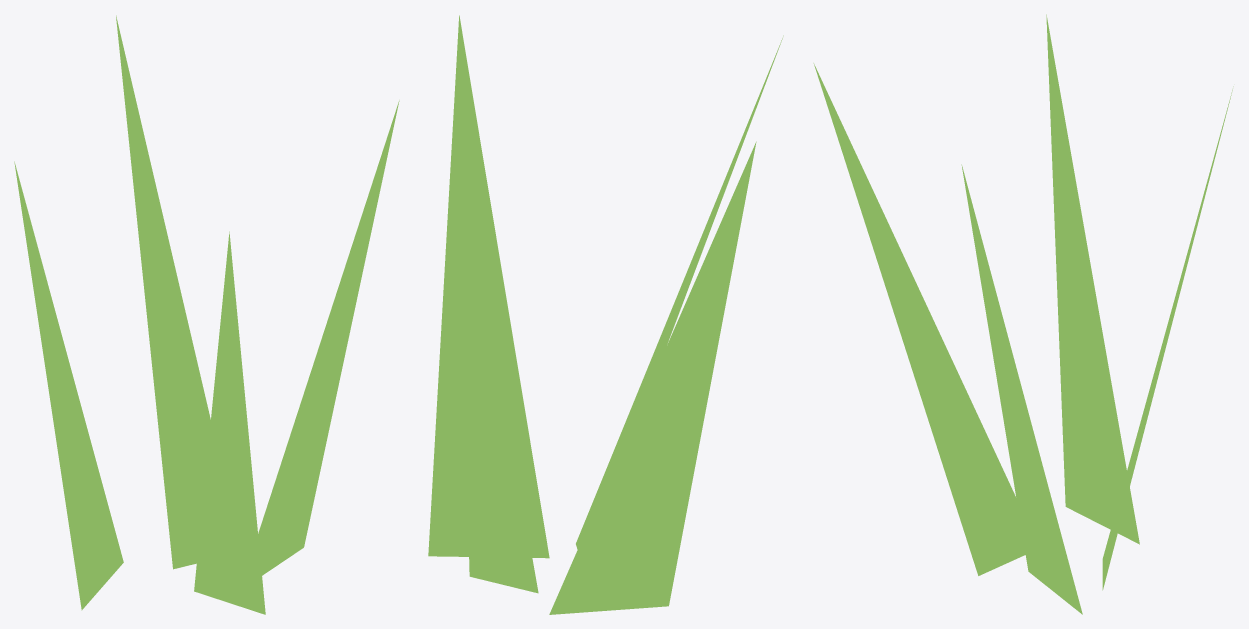
The model's file is Grass_c_TwoS_03.fbx.
3 views of the same model, side by side, from view 1: azimuth 30°, elevation 25°; view 2: azimuth 150°, elevation 25°; view 3: azimuth 270°, elevation 25° (orthographic). The views are drawn at different scales.
Parts seen in each view (by area): view 1: Grass_c_TwoS_03; view 2: Grass_c_TwoS_03; view 3: Grass_c_TwoS_03.
Boxes of the visible parts, box(x1,y1,x2,y2) form: Grass_c_TwoS_03: box(14, 15, 399, 614); Grass_c_TwoS_03: box(428, 15, 783, 614); Grass_c_TwoS_03: box(813, 14, 1233, 614).
Bounding box in the file's own units: 0.3611 × 0.5129 × 0.4028.
